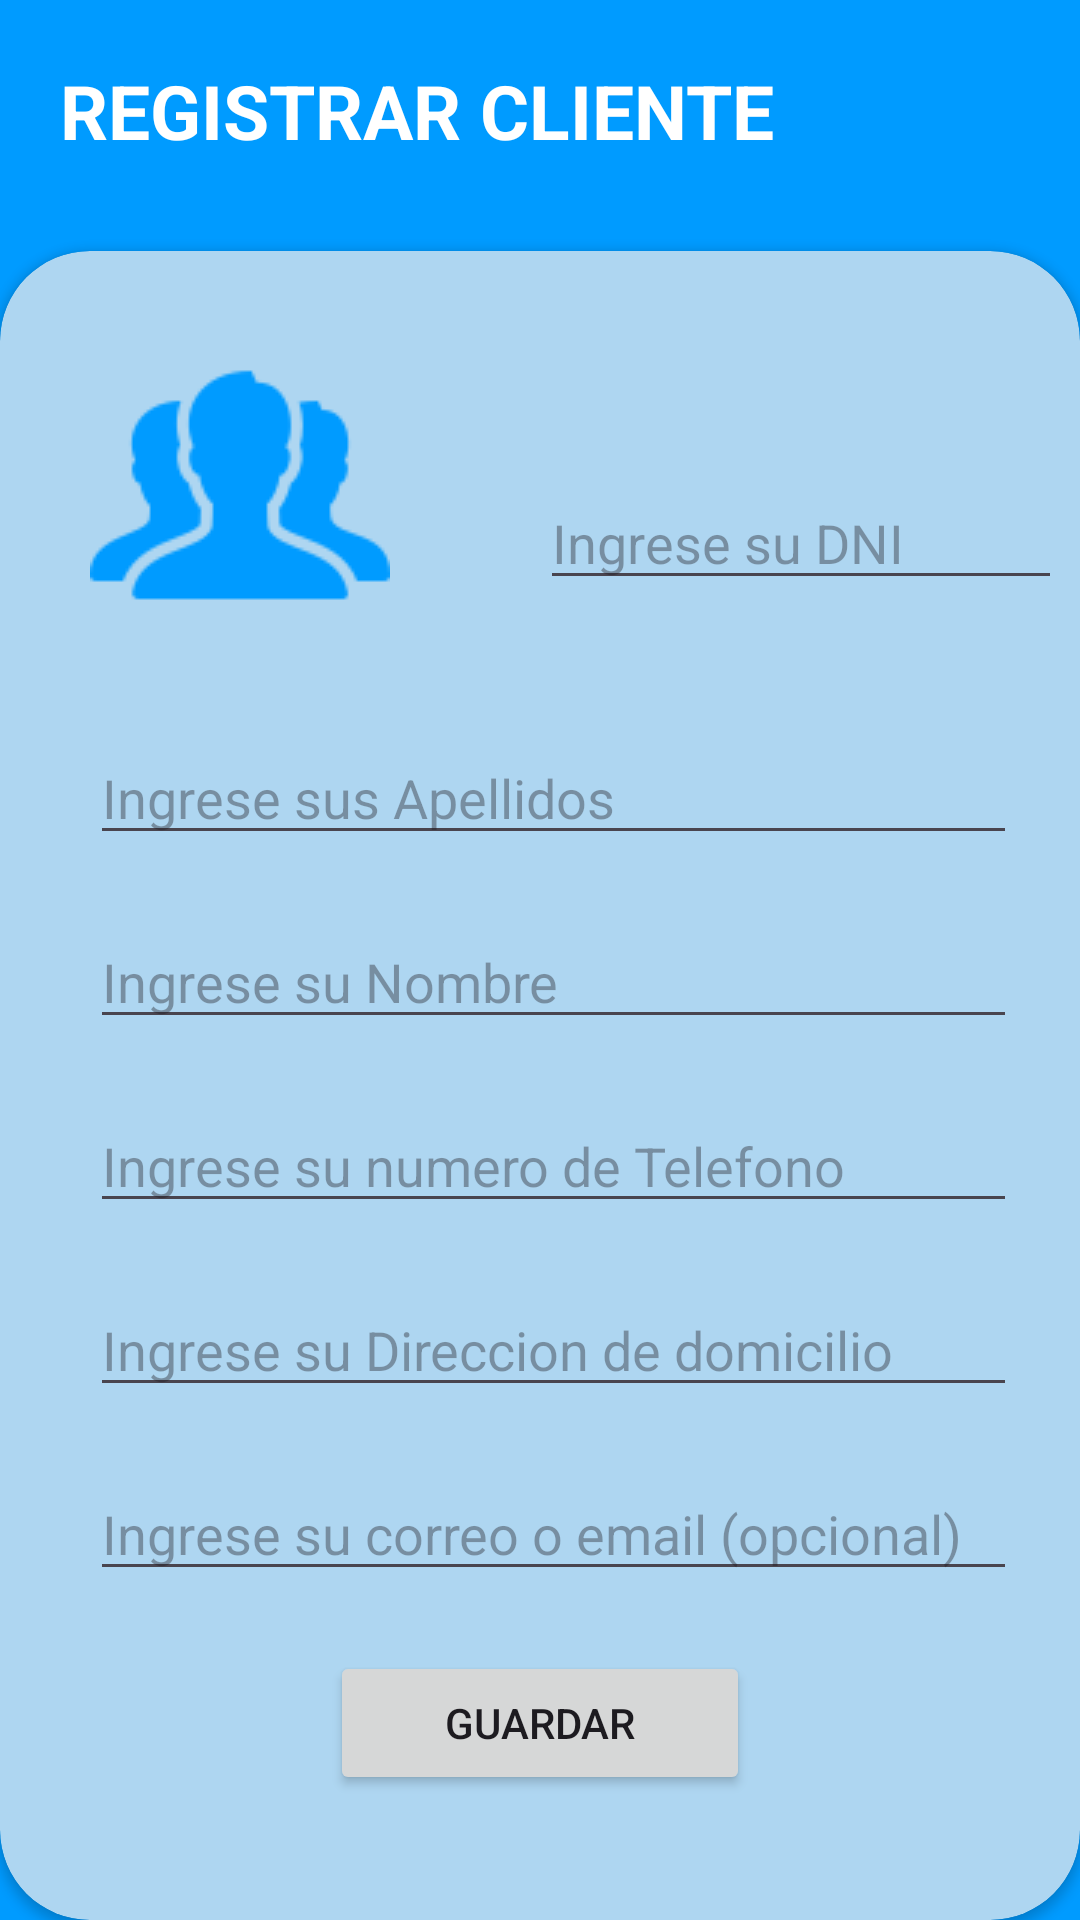

Icons on this 1080x1920 Android screen, each with the point to tap as [x,y]:
clientes: [240,485]
